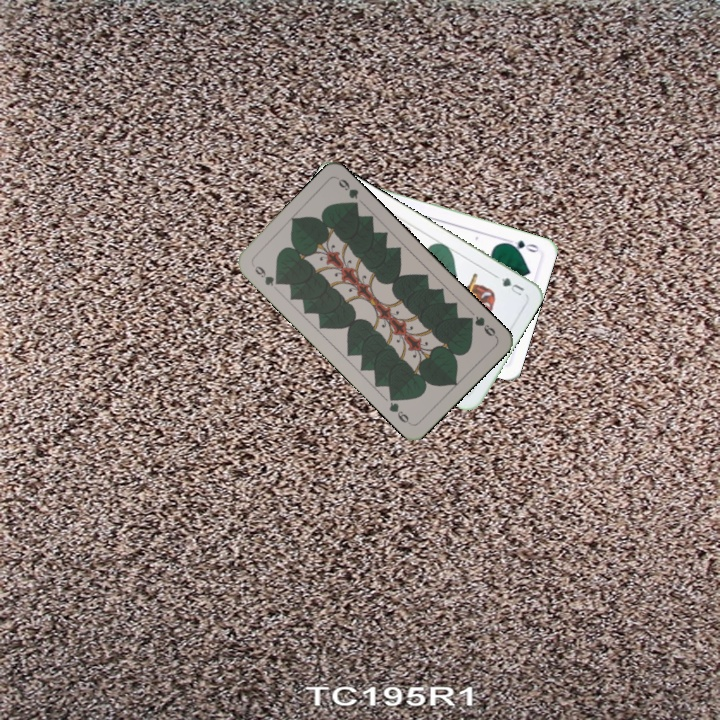G9: (463, 312, 500, 340), (250, 262, 284, 289)
GO: (501, 234, 541, 255)
GU: (496, 274, 527, 298)
